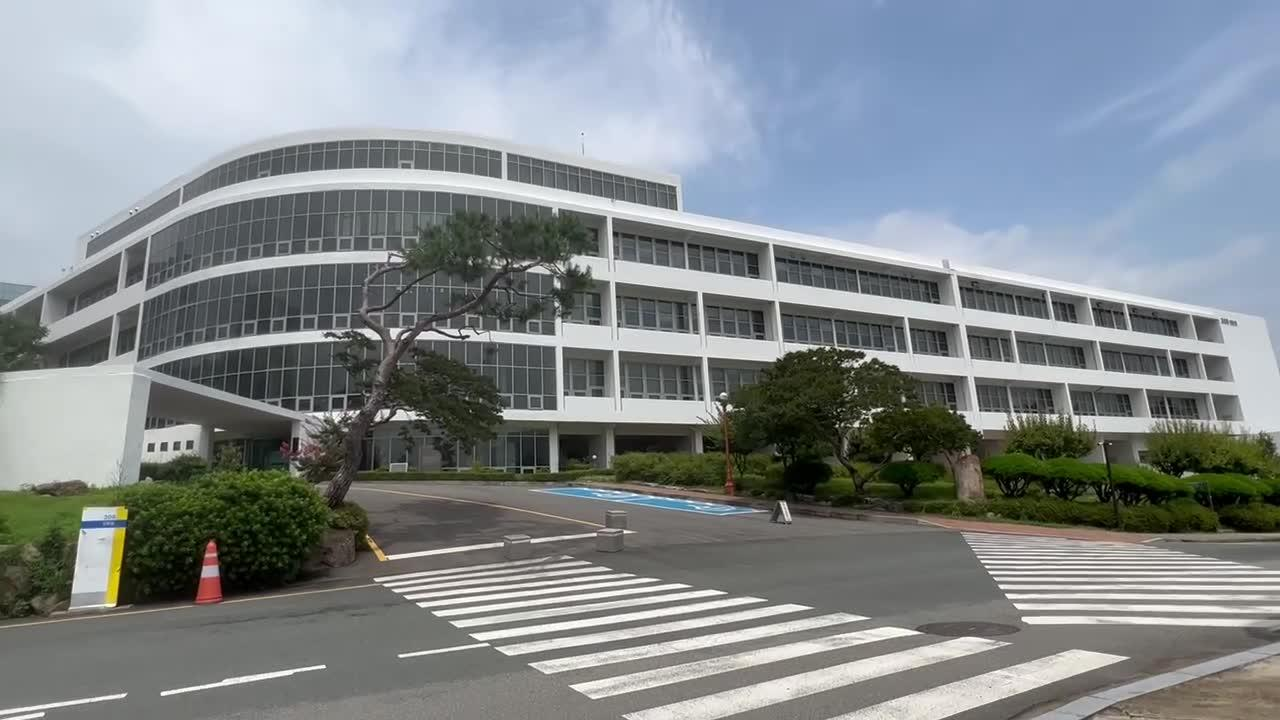building: (119, 140, 1250, 414)
